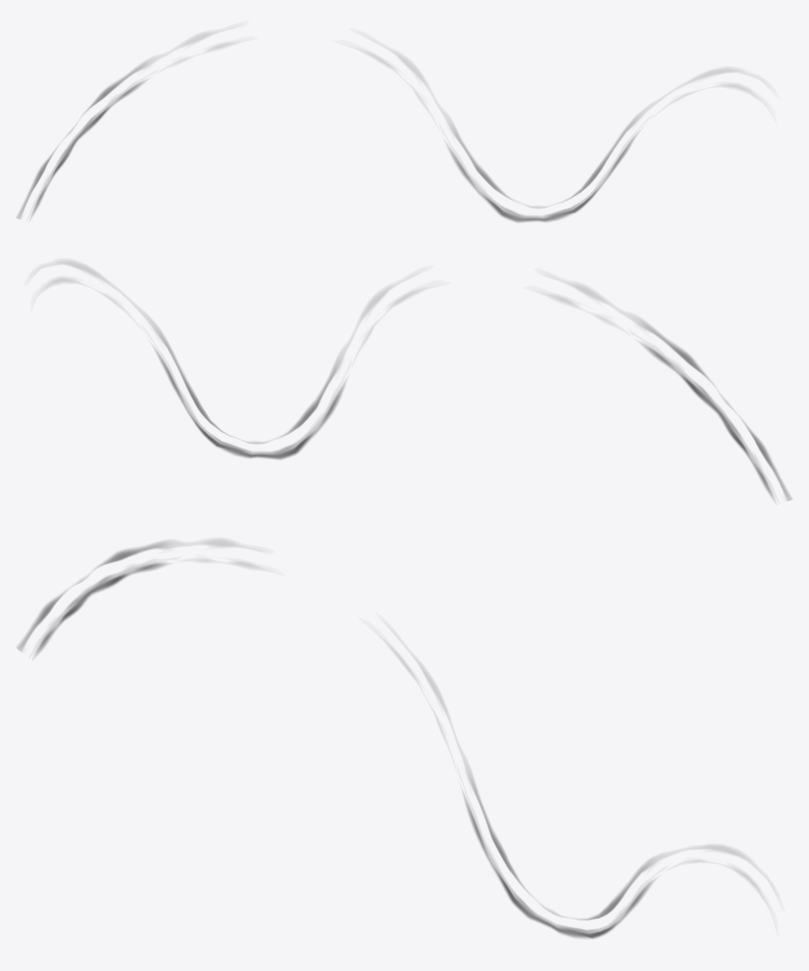
Rendered from lokva.glb.
3 renders of one model, top to bottom at view 1: azimuth 30°, elevation 25°; view 2: azimuth 150°, elevation 25°; view 3: azimuth 330°, elevation 25°, orthographic. The views are drawn at different scales.
Parts seen in each view (by area): view 1: Background_Tree_Atlas.017_Puddle_Streaks_0; view 2: Background_Tree_Atlas.017_Puddle_Streaks_0; view 3: Background_Tree_Atlas.017_Puddle_Streaks_0.
Boxes of the visible parts, x1,y1,x2,y2 form: Background_Tree_Atlas.017_Puddle_Streaks_0: (17, 33, 749, 222); Background_Tree_Atlas.017_Puddle_Streaks_0: (51, 262, 791, 500); Background_Tree_Atlas.017_Puddle_Streaks_0: (17, 540, 757, 938).
Size of the model in its own units: 200 by 67.28 by 24.11.
1 material, 1 textured.
